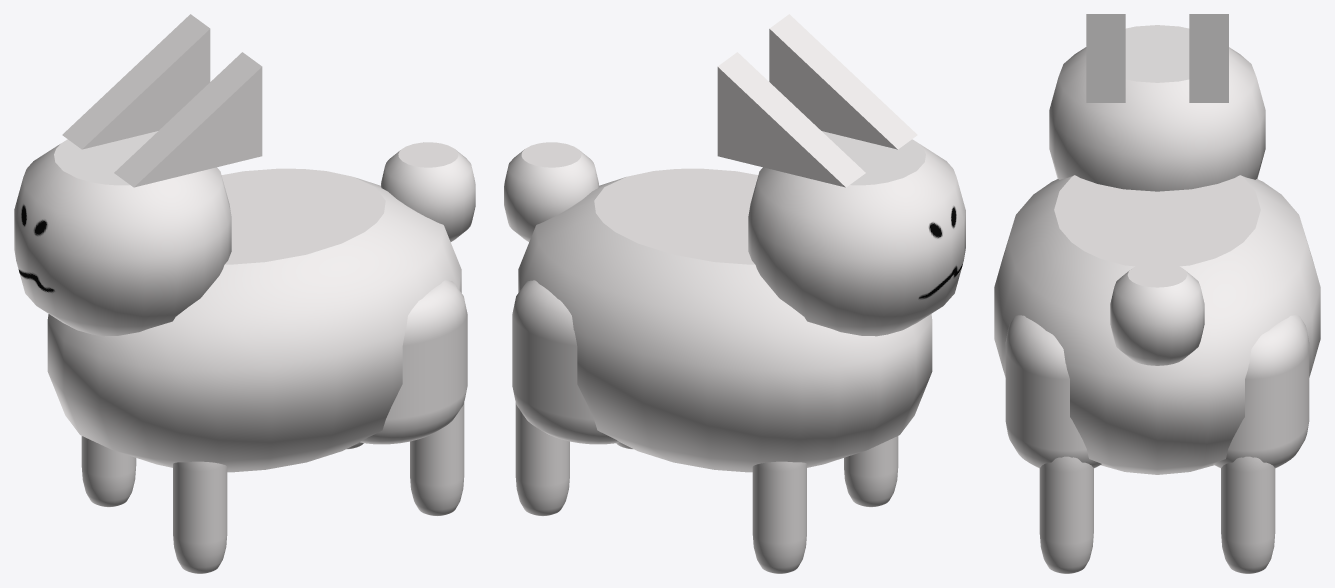
Rendered from gubby.glb.
3 renders of one model, left to right at view 1: azimuth 30°, elevation 25°; view 2: azimuth 150°, elevation 25°; view 3: azimuth 270°, elevation 25°, orthographic.
Visible parts, largest first — view 1: Object_3, Object_4, Object_2; view 2: Object_3, Object_4, Object_2; view 3: Object_3, Object_4, Object_2.
Part boxes in pixels (bbox=[...]): Object_3: bbox=[47, 142, 475, 472]; Object_4: bbox=[62, 14, 467, 573]; Object_2: bbox=[14, 131, 231, 336]; Object_3: bbox=[504, 142, 932, 472]; Object_4: bbox=[512, 14, 917, 573]; Object_2: bbox=[748, 131, 965, 336]; Object_3: bbox=[994, 175, 1320, 474]; Object_4: bbox=[1005, 14, 1309, 573]; Object_2: bbox=[1049, 25, 1265, 191].
Size of the model in its own units: 2.65 by 2.74 by 1.71.
Materials: 3 (1 with a texture image).
